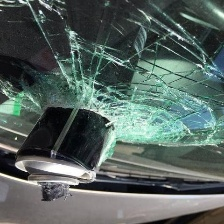aerosol_cans: (8, 0, 154, 207)
